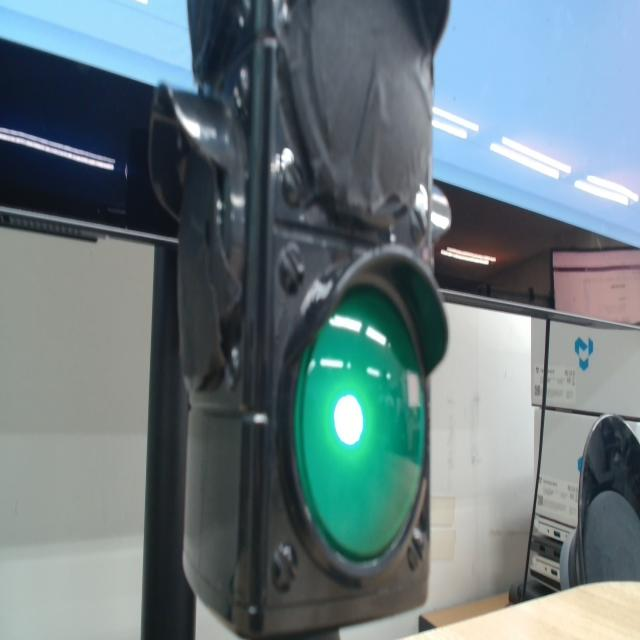green_light: (295, 286, 424, 561), (334, 395, 363, 446)
